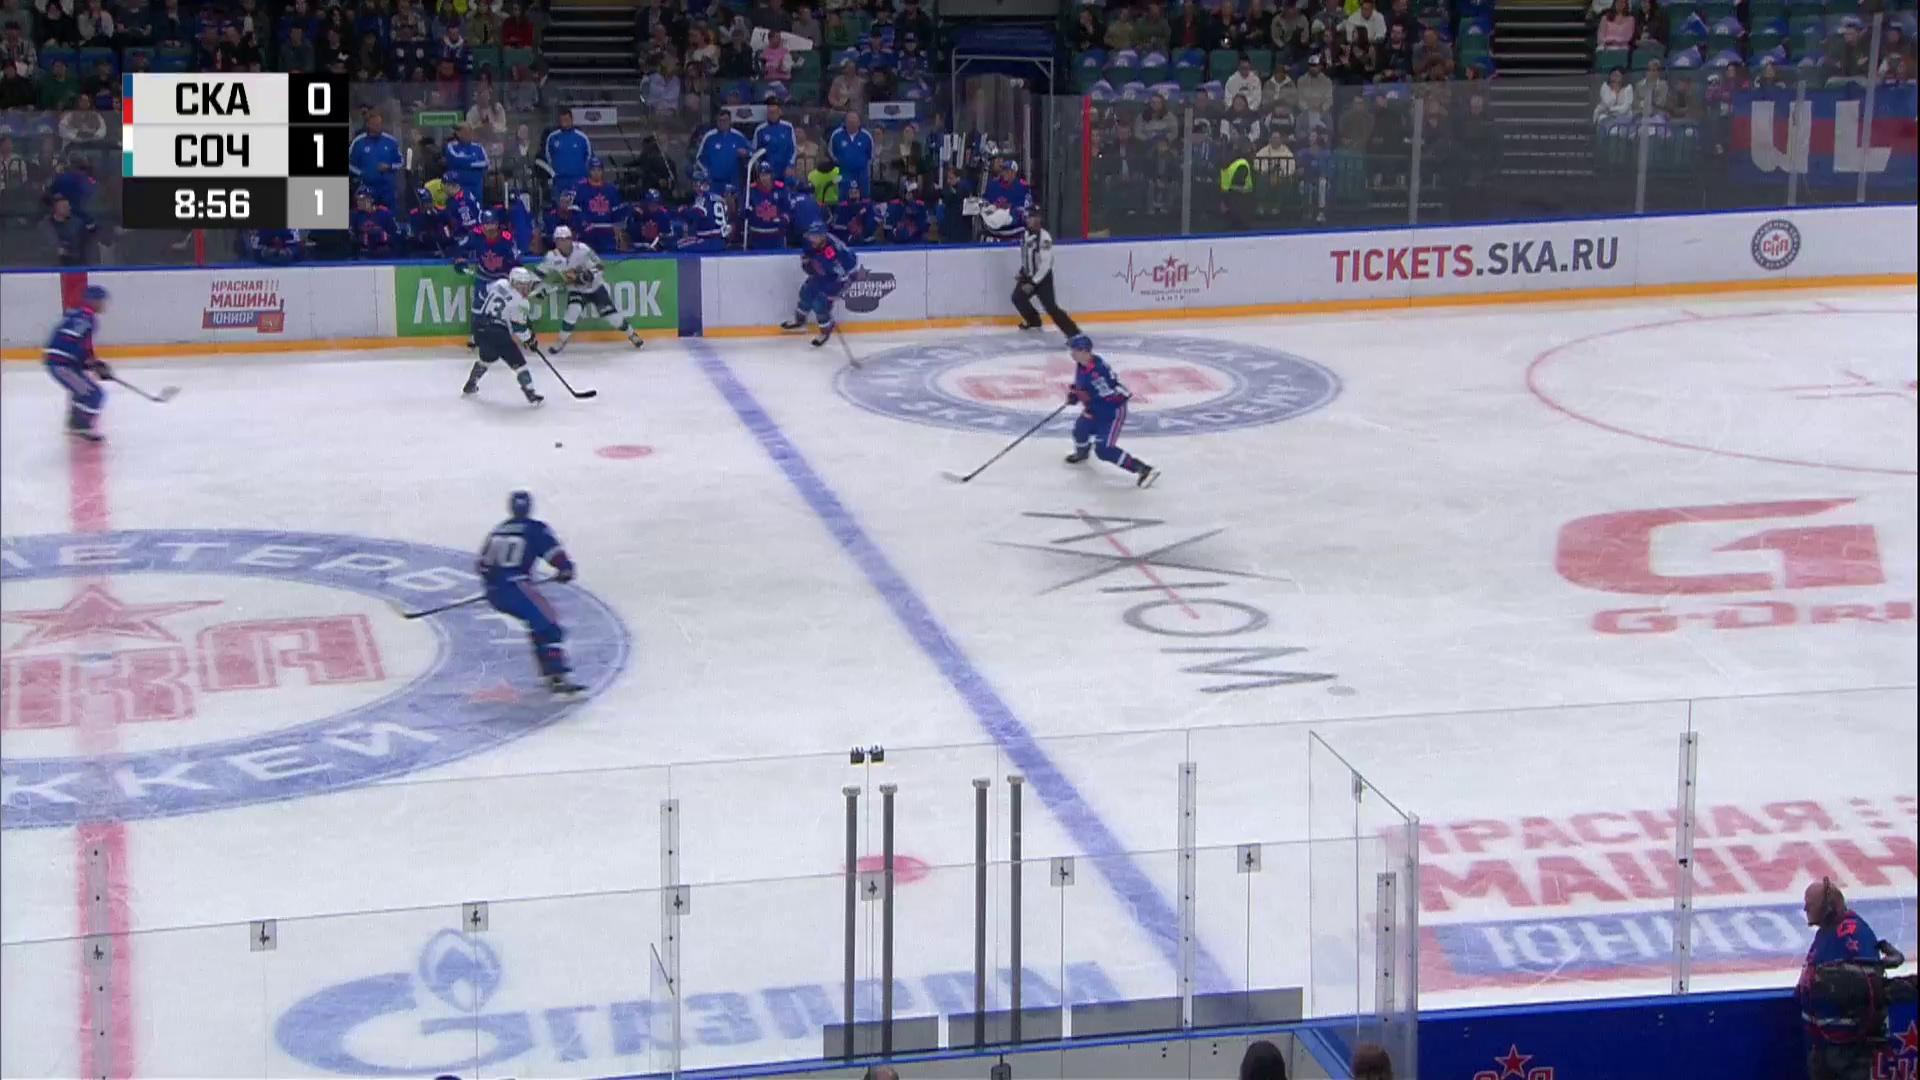ball: (555, 442, 563, 448)
